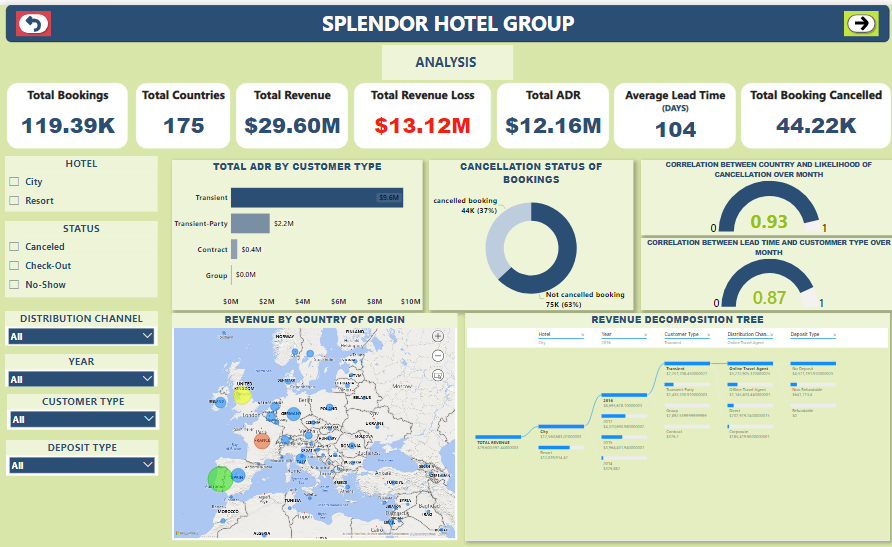

The page's visual inventory and layout, read from the dashboard file:
{"tool":"powerbi","page":{"name":"ANALYSIS ","canvas":[2560,1550],"ordinal":1},"visuals":[{"type":"textbox","box":[18.2,0,2523.5,105.9],"z":0},{"type":"card","title":"Total Bookings","fields":{"Values":["CountNonNull(Data.Customer Type)"]},"box":[21.2,222.4,345.5,186.9],"z":1000},{"type":"card","title":"Total Countries","fields":{"Values":["Count(Data.Country)"]},"box":[389.4,222.4,269,186.9],"z":2000},{"type":"card","title":"Total Revenue","fields":{"Values":["Sum(Data.Revenue)"]},"box":[675.4,222.4,320,186.9],"z":3000},{"type":"card","title":"Total ADR","fields":{"Values":["Sum(Data.Avg Daily Rate)"]},"box":[1420.2,222.4,320,186.9],"z":4000},{"type":"card","title":"Average Lead Time","fields":{"Values":["Avg(Data.Lead Time)"]},"box":[1754.3,222.4,348.3,186.9],"z":5000},{"type":"card","title":"Total Booking Cancelled","fields":{"Values":["Data.cancelled booking"]},"box":[2116.8,222.4,427.6,186.9],"z":6000},{"type":"card","title":"Total Revenue Loss","fields":{"Values":["Data.TRL"]},"box":[1012.4,222.4,390.8,186.9],"z":7000},{"type":"slicer","title":"YEAR","fields":{"Values":["Calendar.Year"]},"box":[15.5,998.3,436.1,93.5],"z":8000},{"type":"slicer","title":"HOTEL","fields":{"Values":["Data.Hotel"]},"box":[15.5,431.9,436.1,158.6],"z":9000},{"type":"slicer","title":"STATUS","fields":{"Values":["Data.Status"]},"box":[15.5,616,436.1,218.1],"z":10000},{"type":"slicer","title":"DISTRIBUTION CHANNEL","fields":{"Values":["Data.Distribution Channel"]},"box":[15.5,873.7,436.1,99.1],"z":11000},{"type":"textbox","box":[1092.6,114.4,374.7,100.1],"z":12000},{"type":"barChart","title":"TOTAL ADR BY CUSTOMER TYPE","fields":{"Category":["Data.Customer Type"],"Y":["Sum(Data.Avg Daily Rate)"]},"box":[492.7,443.2,715.7,429.4],"z":13000},{"type":"slicer","title":"CUSTOMER TYPE","fields":{"Values":["Data.Customer Type"]},"box":[19.3,1112.1,434.9,101.8],"z":14000},{"type":"slicer","title":"DEPOSIT  TYPE","fields":{"Values":["Data.Deposit Type"]},"box":[16.5,1244.2,434.9,101.8],"z":15000},{"type":"donutChart","title":"CANCELLATION STATUS OF BOOKINGS","fields":{"Y":["Data.Not cancelled booking","Data.cancelled booking"]},"box":[1224.9,443.2,583.6,429.4],"z":16000},{"type":"gauge","title":"CORRELATION BETWEEN COUNTRY AND LIKELIHOOD OF CANCELLATION OVER MONTH","fields":{"Y":["Calendar.cancelled booking and Count of Country correlation for Month"]},"box":[1830.6,443.4,729.4,214.5],"z":17000},{"type":"gauge","title":"CORRELATION BETWEEN LEAD TIME AND CUSTOMMER TYPE OVER MONTH ","fields":{"Y":["Calendar.Lead Time and Count of Customer Type correlation for Month"]},"box":[1830.5,666.2,729.5,206.5],"z":18000},{"type":"map","title":"REVENUE BY COUNTRY OF ORIGIN","fields":{"Category":["Data.Country"],"Size":["Sum(Data.Revenue)"]},"box":[492,881,815.2,649.3],"z":19000},{"type":"decompositionTreeVisual","title":"REVENUE DECOMPOSITION TREE","fields":{"Analyze":["Sum(Data.Revenue)"],"ExplainBy":["Data.Hotel","Calendar.Year","Data.Customer Type","Data.Distribution Channel","Data.Deposit Type"]},"box":[1329.5,880.9,1213.9,649.6],"z":20000},{"type":"actionButton","box":[45.8,17.2,100.1,71.5],"z":21000},{"type":"actionButton","box":[2411.4,16.5,99.1,71.6],"z":22000}]}

Visuals, with their boxes in screenshot pixels (x1, y1, x2, y2), scaled from the page's 2560x1550 canvas onto the 892x547 screenshot:
textbox: bbox=(6, 0, 886, 37)
"Total Bookings" card: bbox=(7, 78, 128, 144)
"Total Countries" card: bbox=(136, 78, 229, 144)
"Total Revenue" card: bbox=(235, 78, 347, 144)
"Total ADR" card: bbox=(495, 78, 606, 144)
"Average Lead Time" card: bbox=(611, 78, 733, 144)
"Total Booking Cancelled" card: bbox=(738, 78, 887, 144)
"Total Revenue Loss" card: bbox=(353, 78, 489, 144)
"YEAR" slicer: bbox=(5, 352, 157, 385)
"HOTEL" slicer: bbox=(5, 152, 157, 208)
"STATUS" slicer: bbox=(5, 217, 157, 294)
"DISTRIBUTION CHANNEL" slicer: bbox=(5, 308, 157, 343)
textbox: bbox=(381, 40, 511, 76)
"TOTAL ADR BY CUSTOMER TYPE" barChart: bbox=(172, 156, 421, 308)
"CUSTOMER TYPE" slicer: bbox=(7, 392, 158, 428)
"DEPOSIT  TYPE" slicer: bbox=(6, 439, 157, 475)
"CANCELLATION STATUS OF BOOKINGS" donutChart: bbox=(427, 156, 630, 308)
"CORRELATION BETWEEN COUNTRY AND LIKELIHOOD OF CANCELLATION OVER MONTH" gauge: bbox=(638, 156, 891, 232)
"CORRELATION BETWEEN LEAD TIME AND CUSTOMMER TYPE OVER MONTH " gauge: bbox=(638, 235, 891, 308)
"REVENUE BY COUNTRY OF ORIGIN" map: bbox=(171, 311, 455, 540)
"REVENUE DECOMPOSITION TREE" decompositionTreeVisual: bbox=(463, 311, 886, 540)
actionButton: bbox=(16, 6, 51, 31)
actionButton: bbox=(840, 6, 875, 31)
